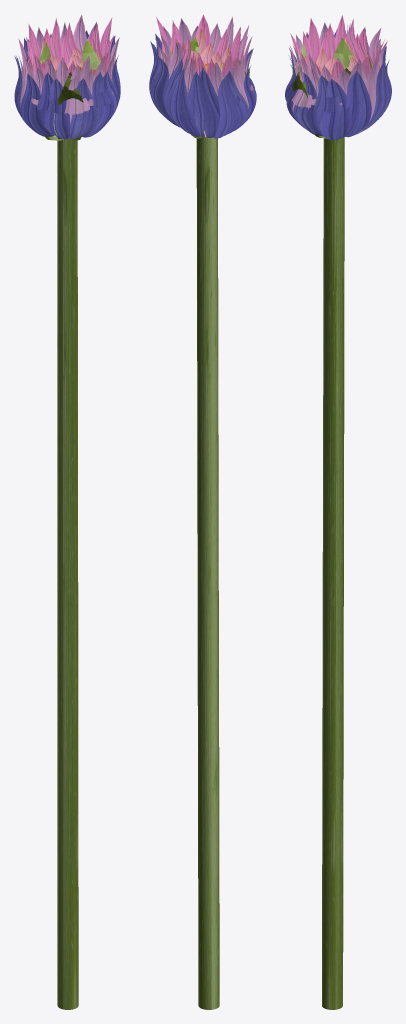
Rendered from flor_02.fbx.
3 views of the same model, side by side, from view 1: azimuth 30°, elevation 25°; view 2: azimuth 150°, elevation 25°; view 3: azimuth 330°, elevation 25° (orthographic).
Parts seen in each view (by area): view 1: Plane.068; view 2: Plane.068; view 3: Plane.068.
Boxes of the visible parts, x1,y1,x2,y2 form: Plane.068: [14, 14, 120, 1009]; Plane.068: [149, 14, 256, 1009]; Plane.068: [285, 15, 391, 1009].
Bounding box in the file's own units: 44.52 × 442 × 40.66.
2 materials, 2 textured.
